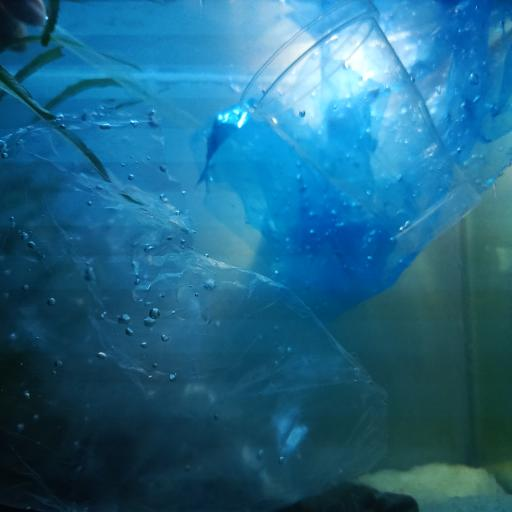plastic_bag: (2, 98, 389, 512), (203, 0, 511, 306)
plastic_cup: (248, 6, 480, 246)
plastic_straw: (59, 34, 195, 128)
